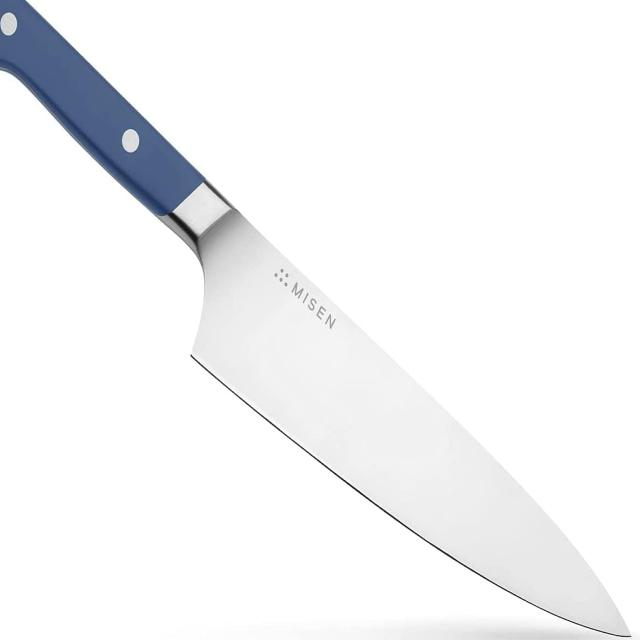Weapon: (0, 0, 629, 635)
